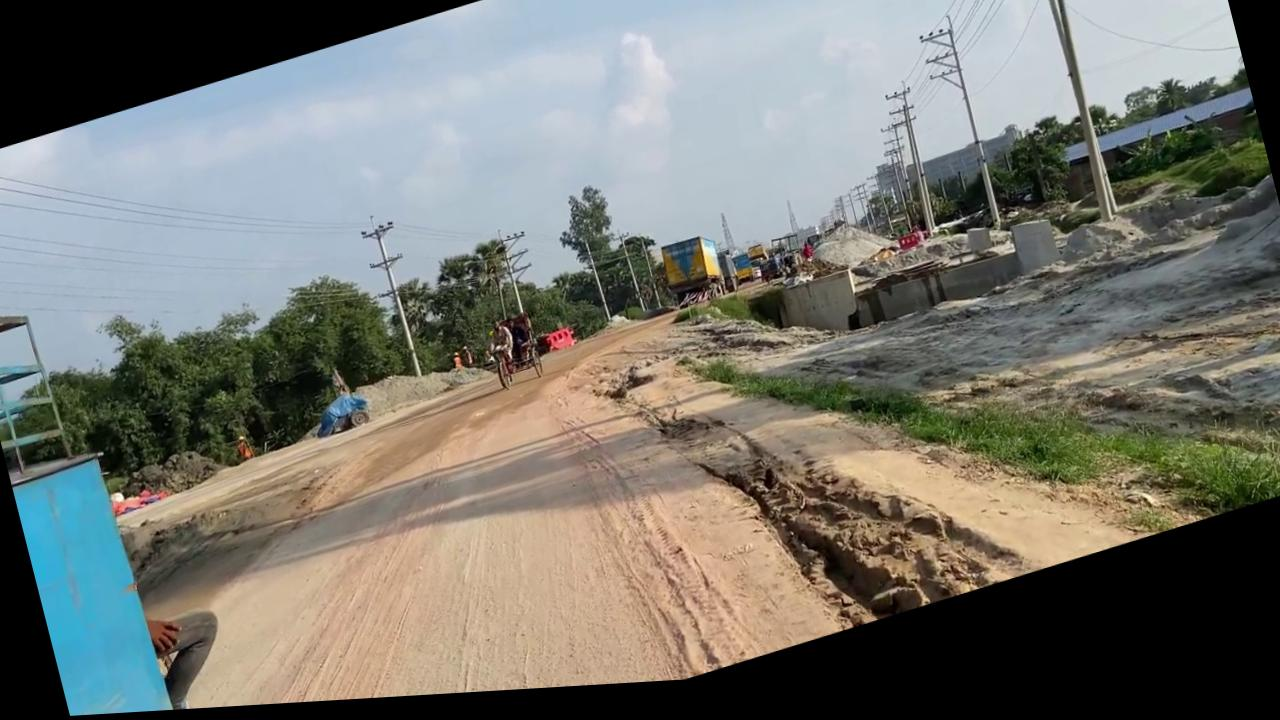Garbage: (308, 390, 372, 444)
Pole: (967, 0, 1118, 254), (1045, 2, 1120, 238), (356, 212, 432, 391), (882, 90, 946, 253), (580, 239, 612, 333)
Railroad-crossing: (479, 309, 547, 399)
Rickshaw: (564, 197, 1193, 694)
Traffic-sign: (548, 185, 636, 338)
Tree: (8, 438, 198, 720), (656, 238, 728, 320)
